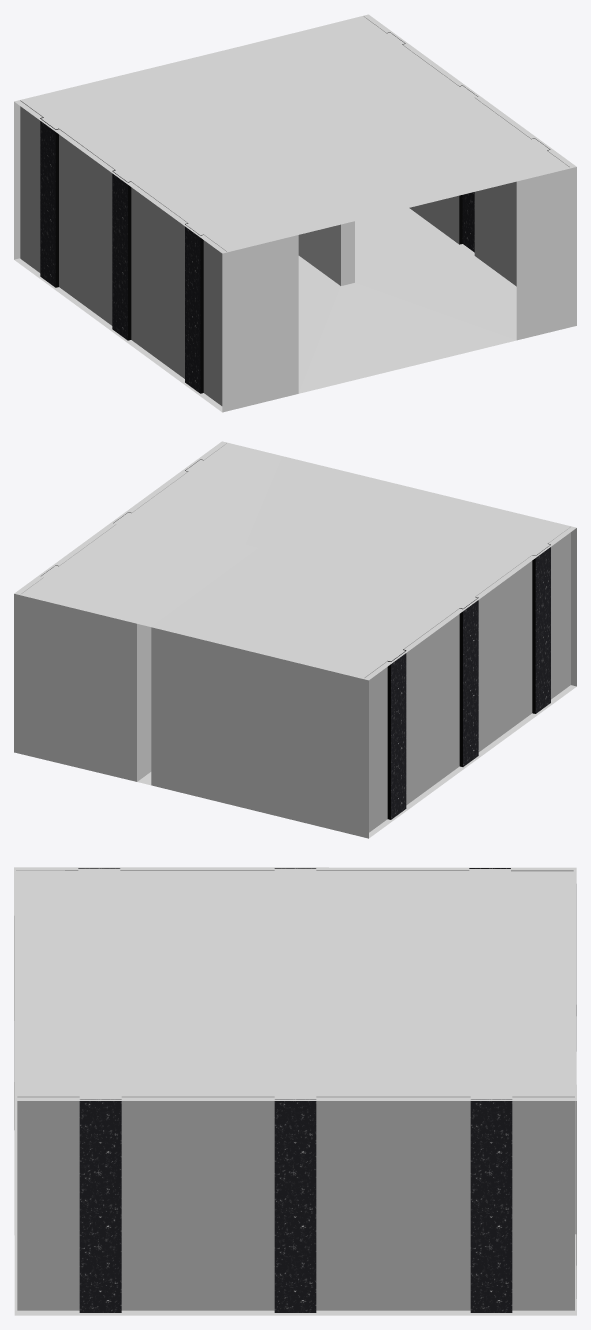
File: room1_b.gltf
3 renders of one model, top to bottom at view 1: azimuth 30°, elevation 25°; view 2: azimuth 150°, elevation 25°; view 3: azimuth 270°, elevation 25°, orthographic. The views are drawn at different scales.
Parts seen in each view (by area): view 1: Cube, site19_wall_cb_modern.002, site19_wall_cb_modern.001; view 2: Cube, site19_wall_cb_modern.002; view 3: Cube, site19_wall_cb_modern.001, site19_wall_cb_modern.002.
Part boxes in pixels (<box>): Cube: <box>14,14,576,412</box>; site19_wall_cb_modern.002: <box>20,100,226,405</box>; site19_wall_cb_modern.001: <box>364,16,569,286</box>; Cube: <box>14,441,576,838</box>; site19_wall_cb_modern.002: <box>364,527,570,832</box>; Cube: <box>14,867,576,1315</box>; site19_wall_cb_modern.001: <box>17,1096,574,1312</box>; site19_wall_cb_modern.002: <box>16,868,573,871</box>.
Size of the model in its own units: 16.97 by 7.27 by 17.26.
Materials: 21 (6 with a texture image).
